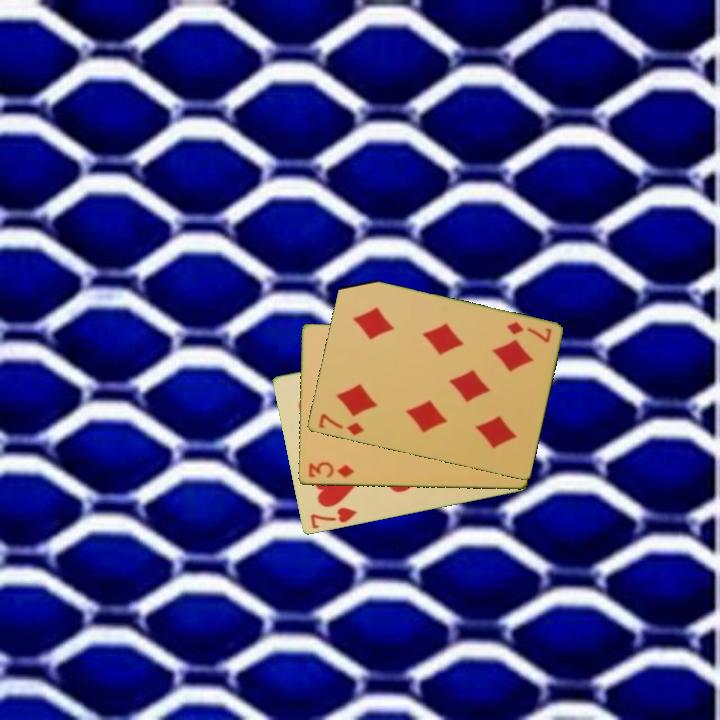3d: (305, 459, 357, 481)
7d: (315, 410, 367, 439), (503, 318, 554, 346)
7h: (306, 504, 359, 532)
